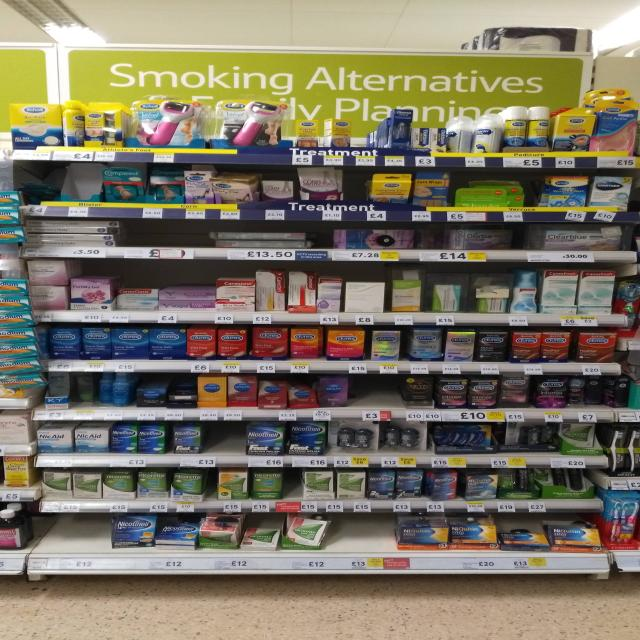empty: (42, 508, 124, 555), (319, 509, 400, 548), (118, 219, 217, 248), (43, 166, 112, 206), (41, 164, 110, 204), (338, 380, 412, 408), (203, 417, 249, 456)
